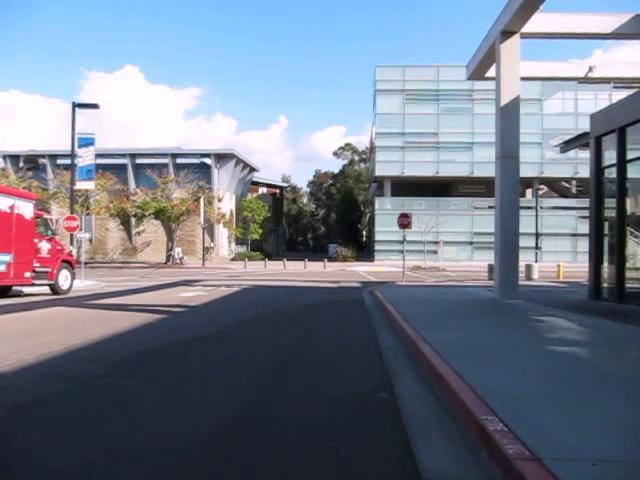stop: (397, 211, 411, 230)
